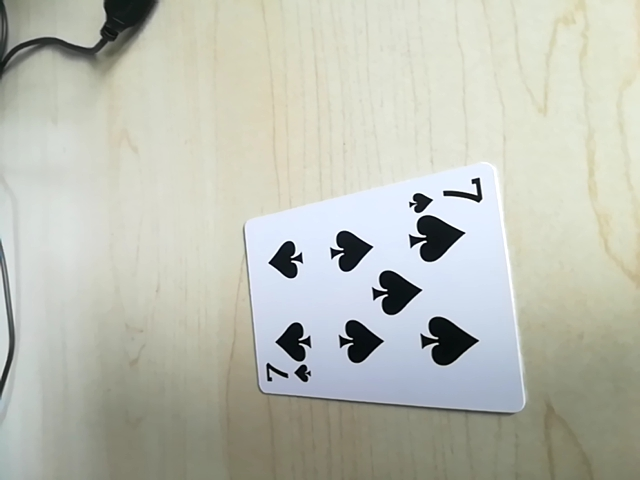ht 7: (407, 176, 493, 213), (257, 358, 315, 392)
